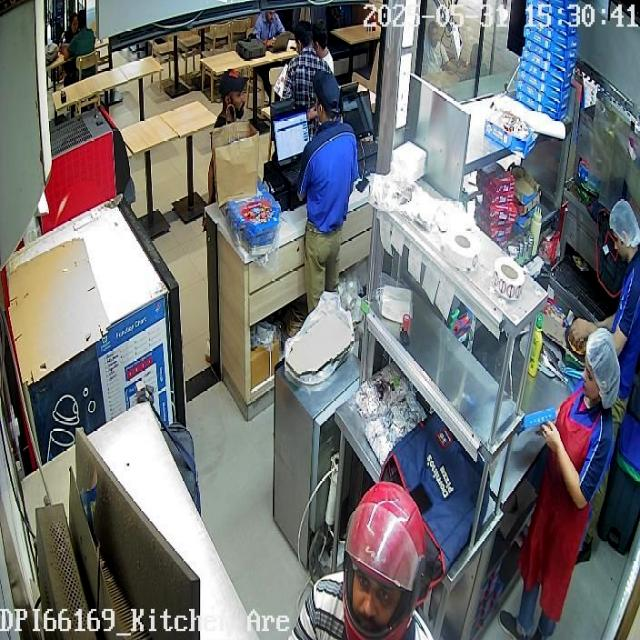helmet: (342, 484, 428, 639)
